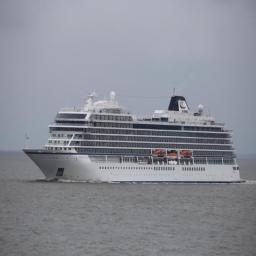cruises: (20, 89, 248, 188)
